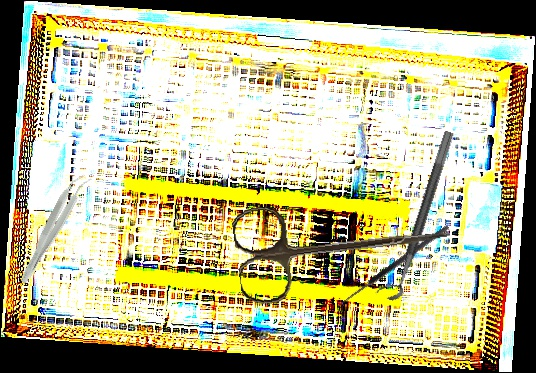Fixation Ring: (374, 125, 456, 304)
Hook Surgical: (335, 223, 454, 316)
Iris Scissors: (230, 181, 456, 308)
Tissue Forceps: (16, 169, 92, 289)
